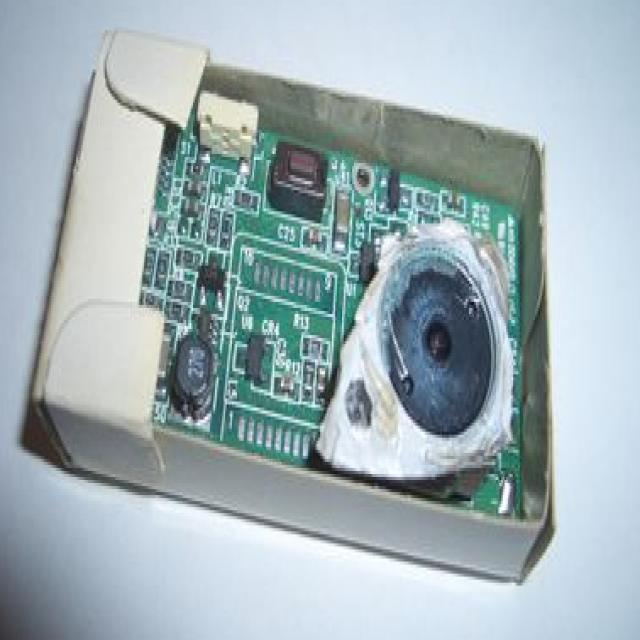hidden camera: (425, 316, 453, 367)
